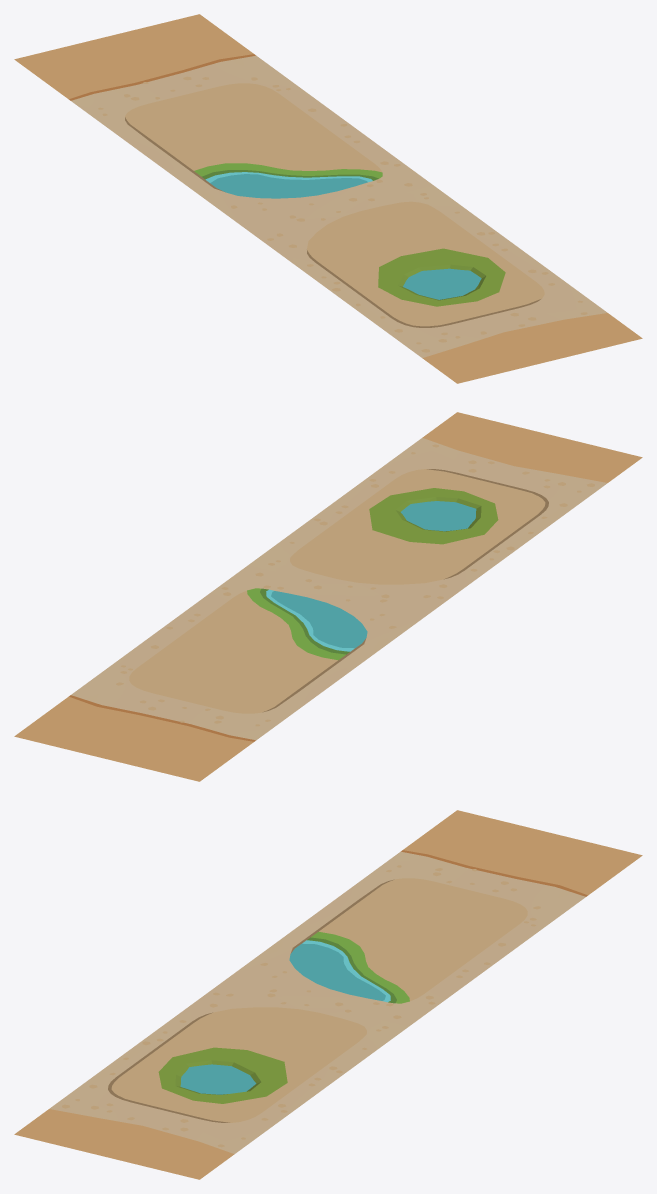
The model's file is west_kuozhan_02.FBX.
3 renders of one model, top to bottom at view 1: azimuth 30°, elevation 25°; view 2: azimuth 150°, elevation 25°; view 3: azimuth 330°, elevation 25°, orthographic.
Visible parts, largest first — view 1: west_kuozhan_02; view 2: west_kuozhan_02; view 3: west_kuozhan_02.
Boxes of the visible parts, x1,y1,x2,y2 form: west_kuozhan_02: (14, 14, 642, 383); west_kuozhan_02: (14, 412, 642, 781); west_kuozhan_02: (14, 810, 642, 1179).
Bounding box in the file's own units: 5300 × 272 × 21918.
Materials: 1 (1 with a texture image).
